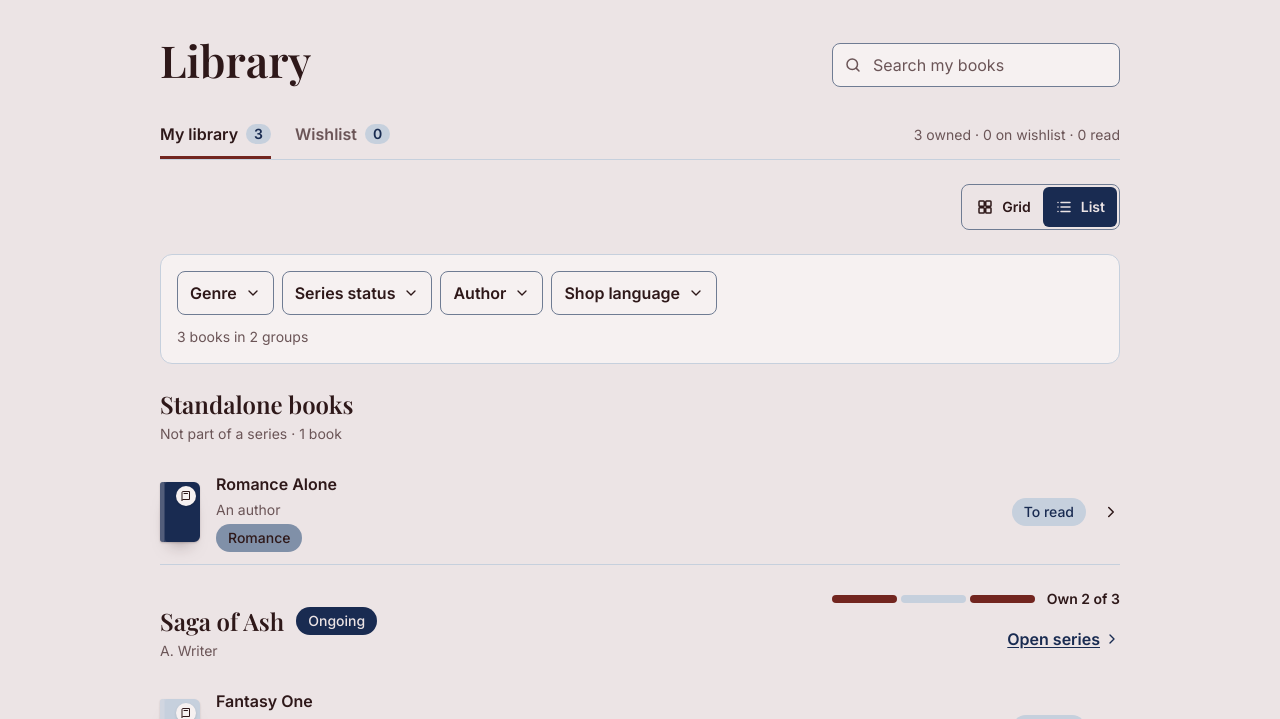
Test: Library › filters and states › says nothing matches when search and filters leave no book
The width and height of the screenshot is (1280, 719).
Expected: the text "Romance Alone" is shown, x1=216 y1=474 x2=337 y2=494
Click the button "Genre" at (225, 293), box x1=177 y1=271 x2=274 y2=315
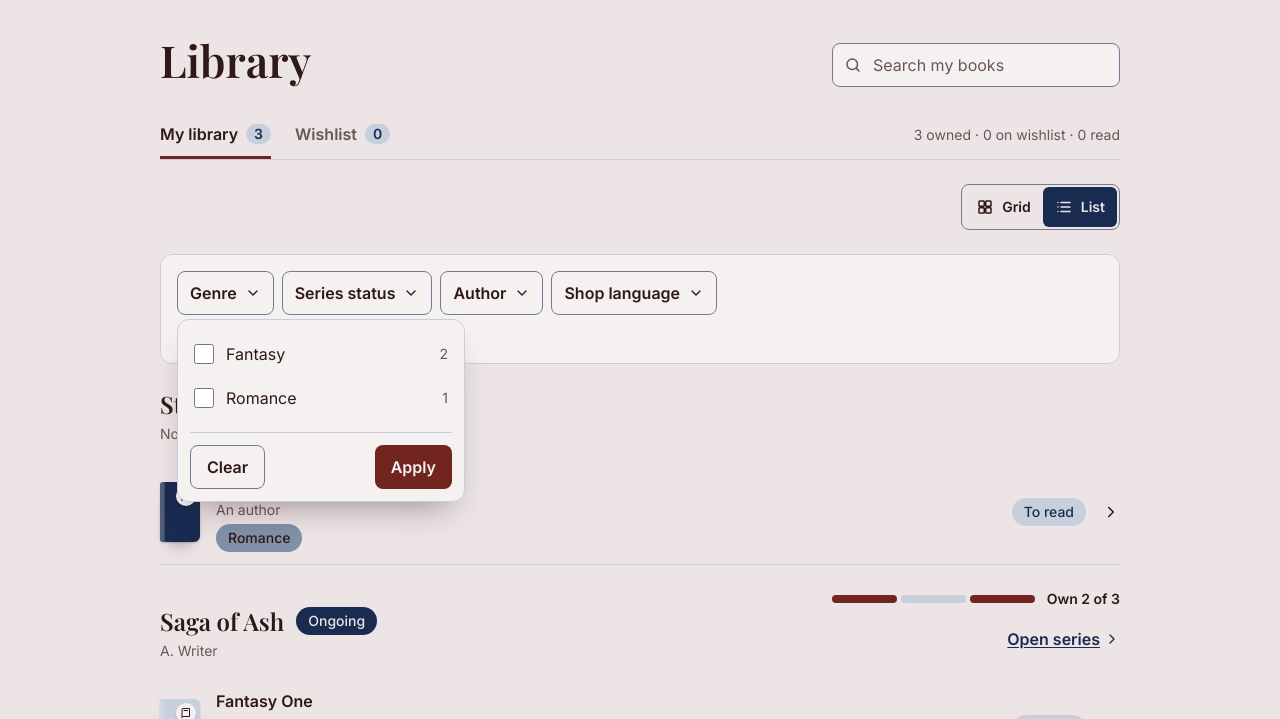
Click the checkbox labelled "Romance 1" at (204, 398), box x1=194 y1=388 x2=214 y2=408
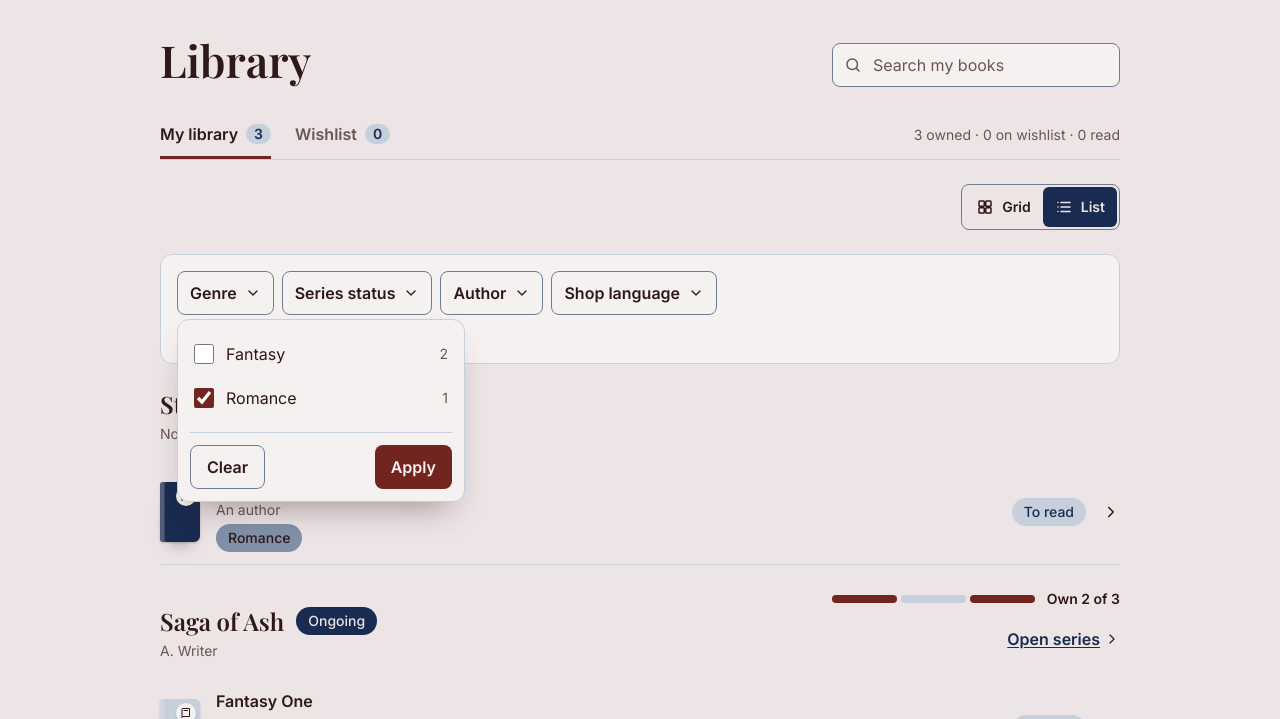
Click the button "Apply" at (413, 467), box x1=375 y1=445 x2=452 y2=489
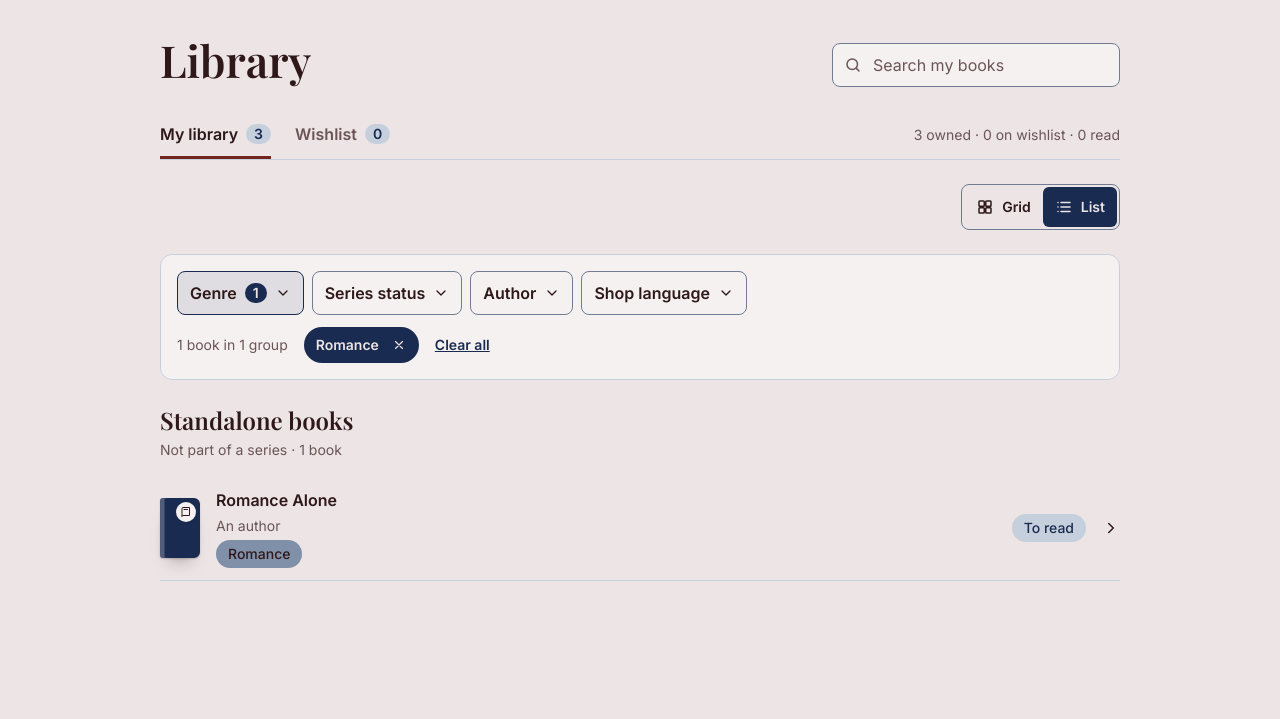
Type "fantasy" into the search field labelled "Search my books" at (976, 65), box x1=832 y1=43 x2=1120 y2=87
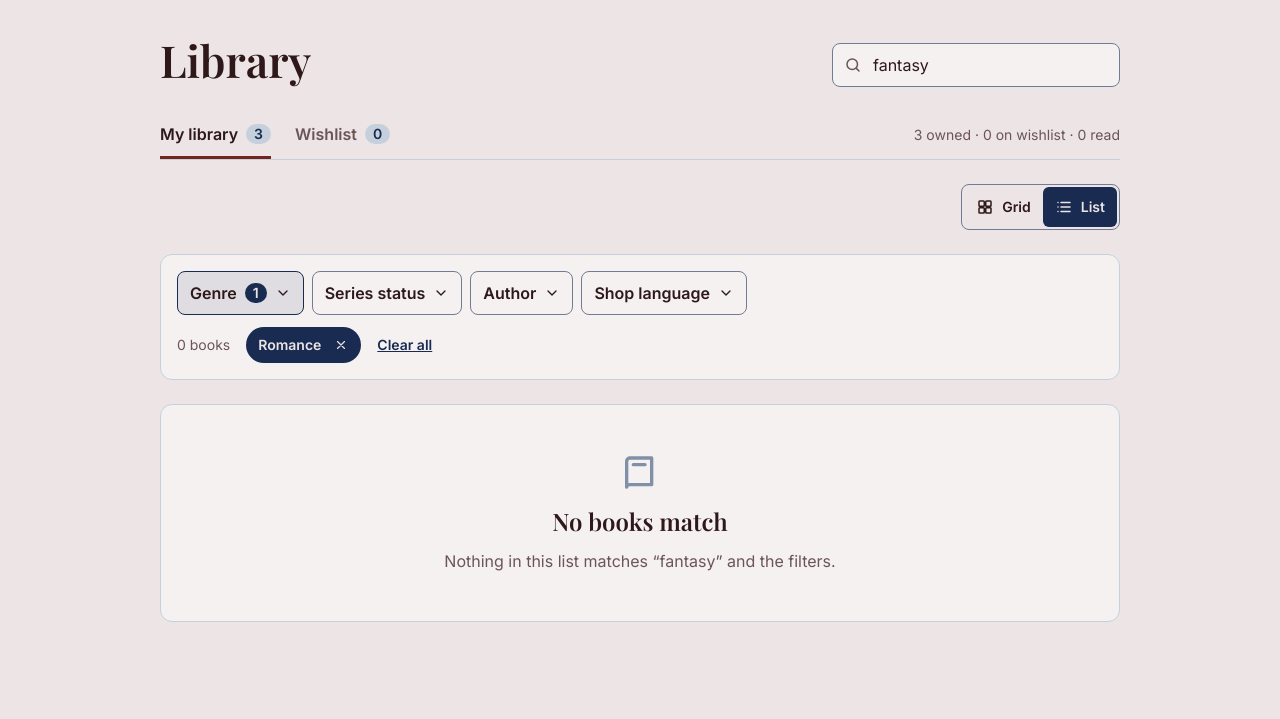
Expected: the heading "No books match" is shown, x1=552 y1=505 x2=728 y2=537
